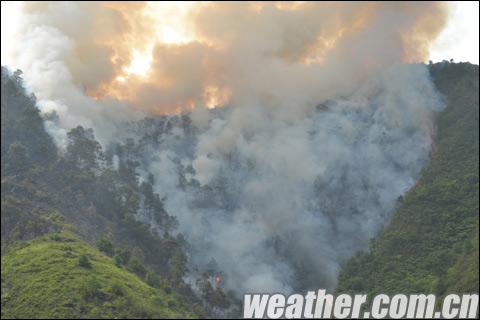smoke: (197, 1, 338, 284), (26, 3, 195, 128), (340, 1, 431, 172)
